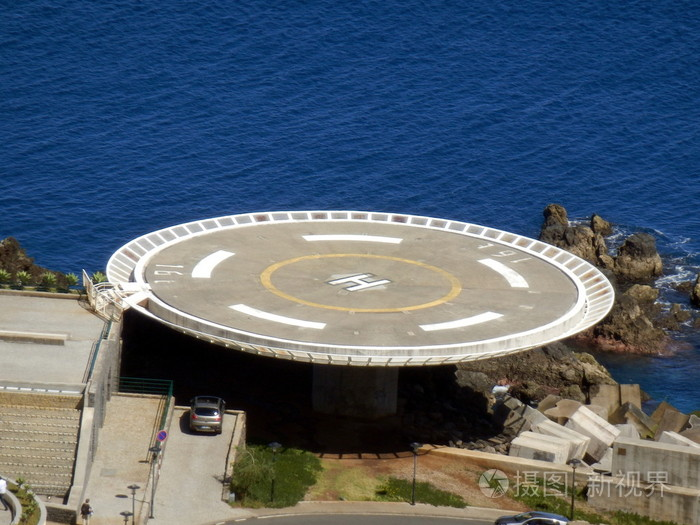H: (326, 272, 393, 291)
